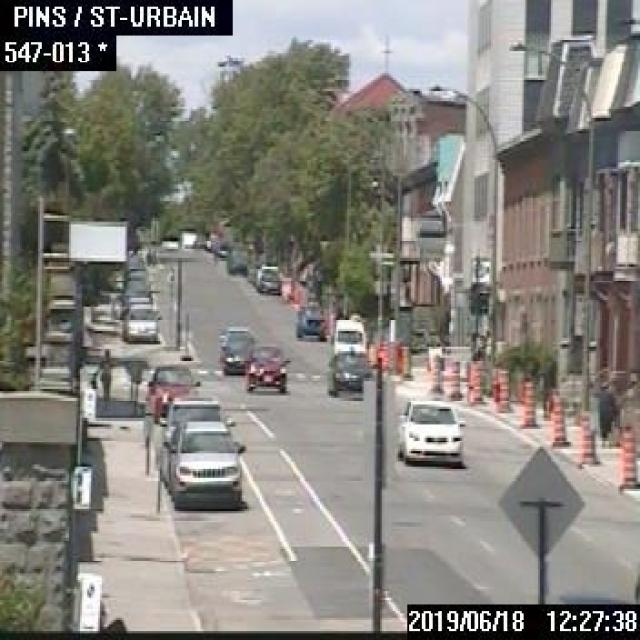construction: (615, 424, 638, 486), (547, 386, 569, 444), (575, 409, 598, 464), (518, 371, 538, 429), (491, 364, 509, 414), (446, 358, 460, 398), (467, 362, 481, 402), (428, 352, 442, 392), (397, 344, 409, 376), (378, 340, 389, 372), (293, 284, 300, 302)
pedestrian: (593, 380, 617, 444), (140, 380, 155, 442), (94, 344, 111, 398)
vehicle: (164, 418, 244, 511), (156, 395, 234, 461), (394, 396, 466, 464), (151, 362, 201, 415), (242, 344, 290, 393), (327, 349, 376, 396), (122, 302, 160, 341), (329, 318, 366, 352), (220, 335, 253, 372), (218, 323, 250, 357), (294, 308, 324, 338), (226, 245, 247, 272), (257, 272, 282, 294), (253, 262, 277, 284), (121, 277, 148, 296), (122, 294, 150, 312), (124, 264, 146, 278)
